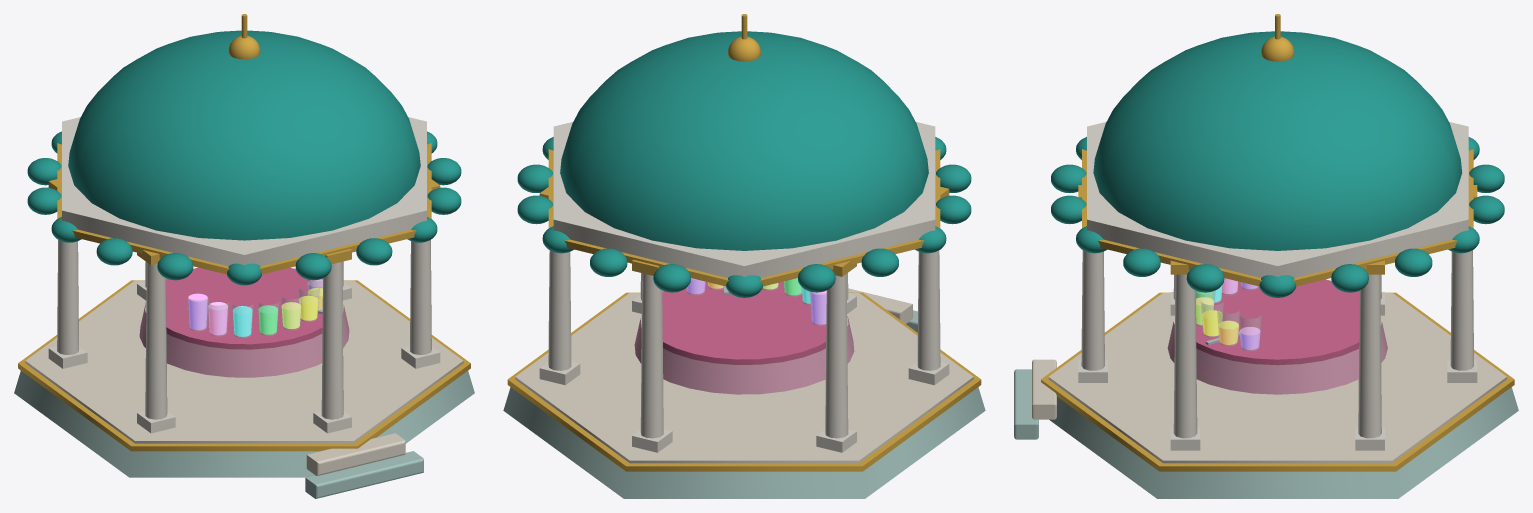
The model's file is glassPavilion.glb.
The picture shows the model from 3 angles, left to right: view 1: azimuth 30°, elevation 25°; view 2: azimuth 150°, elevation 25°; view 3: azimuth 270°, elevation 25°; orthographic projection. The views are drawn at different scales.
Parts seen in each view (by area): view 1: part_000, part_002, part_007, part_003, part_009, part_001, part_005, part_004, part_011, part_006, part_008; view 2: part_000, part_001; view 3: part_000, part_013, part_015, part_011.
Boxes of the visible parts, box(x1,y1,x2,y2) form: part_000: box(14, 14, 474, 498); part_002: box(188, 293, 207, 330); part_007: box(257, 301, 279, 335); part_003: box(207, 302, 228, 336); part_009: box(280, 296, 302, 329); part_001: box(187, 297, 208, 331); part_005: box(232, 304, 253, 337); part_004: box(208, 302, 227, 335); part_011: box(298, 288, 319, 321); part_006: box(233, 306, 252, 336); part_008: box(258, 305, 277, 334); part_000: box(503, 14, 985, 498); part_001: box(809, 291, 826, 325); part_000: box(1014, 14, 1518, 498); part_013: box(1217, 309, 1240, 345); part_015: box(1238, 315, 1261, 350); part_011: box(1201, 302, 1223, 337).
Bounding box in the file's own units: 7.74 × 7.35 × 8.48.
